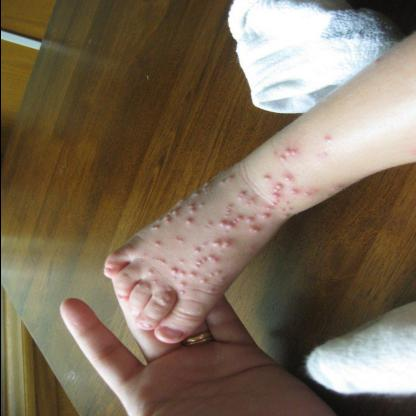Fire ant: (245, 184, 309, 209), (189, 238, 233, 270), (184, 182, 210, 232), (214, 190, 242, 236), (187, 272, 225, 296), (158, 282, 186, 308), (244, 211, 270, 235), (163, 198, 181, 230), (133, 270, 156, 292), (167, 256, 185, 280), (276, 146, 297, 162), (324, 184, 342, 198), (215, 175, 237, 185), (146, 218, 160, 232), (148, 256, 166, 266), (279, 173, 295, 183), (276, 210, 292, 219), (148, 240, 162, 249), (319, 134, 334, 142), (244, 245, 260, 252), (260, 172, 270, 182), (171, 236, 183, 244), (316, 152, 328, 160)
